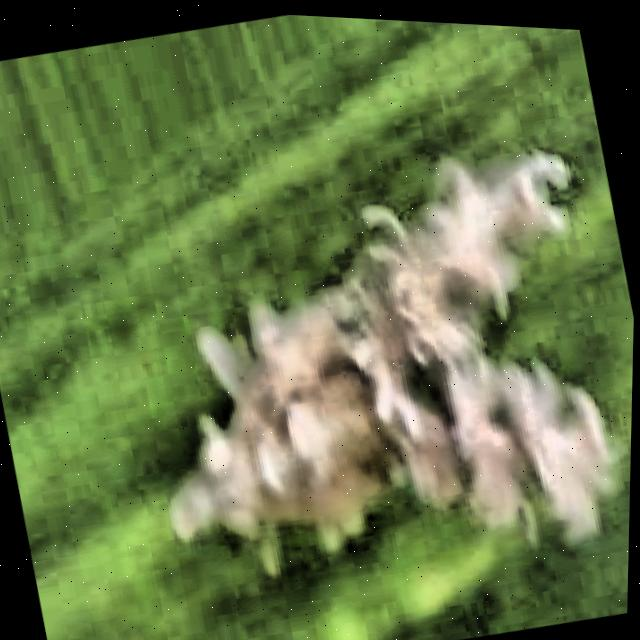Pyrilla-perpusilla: (53, 54, 639, 640)
